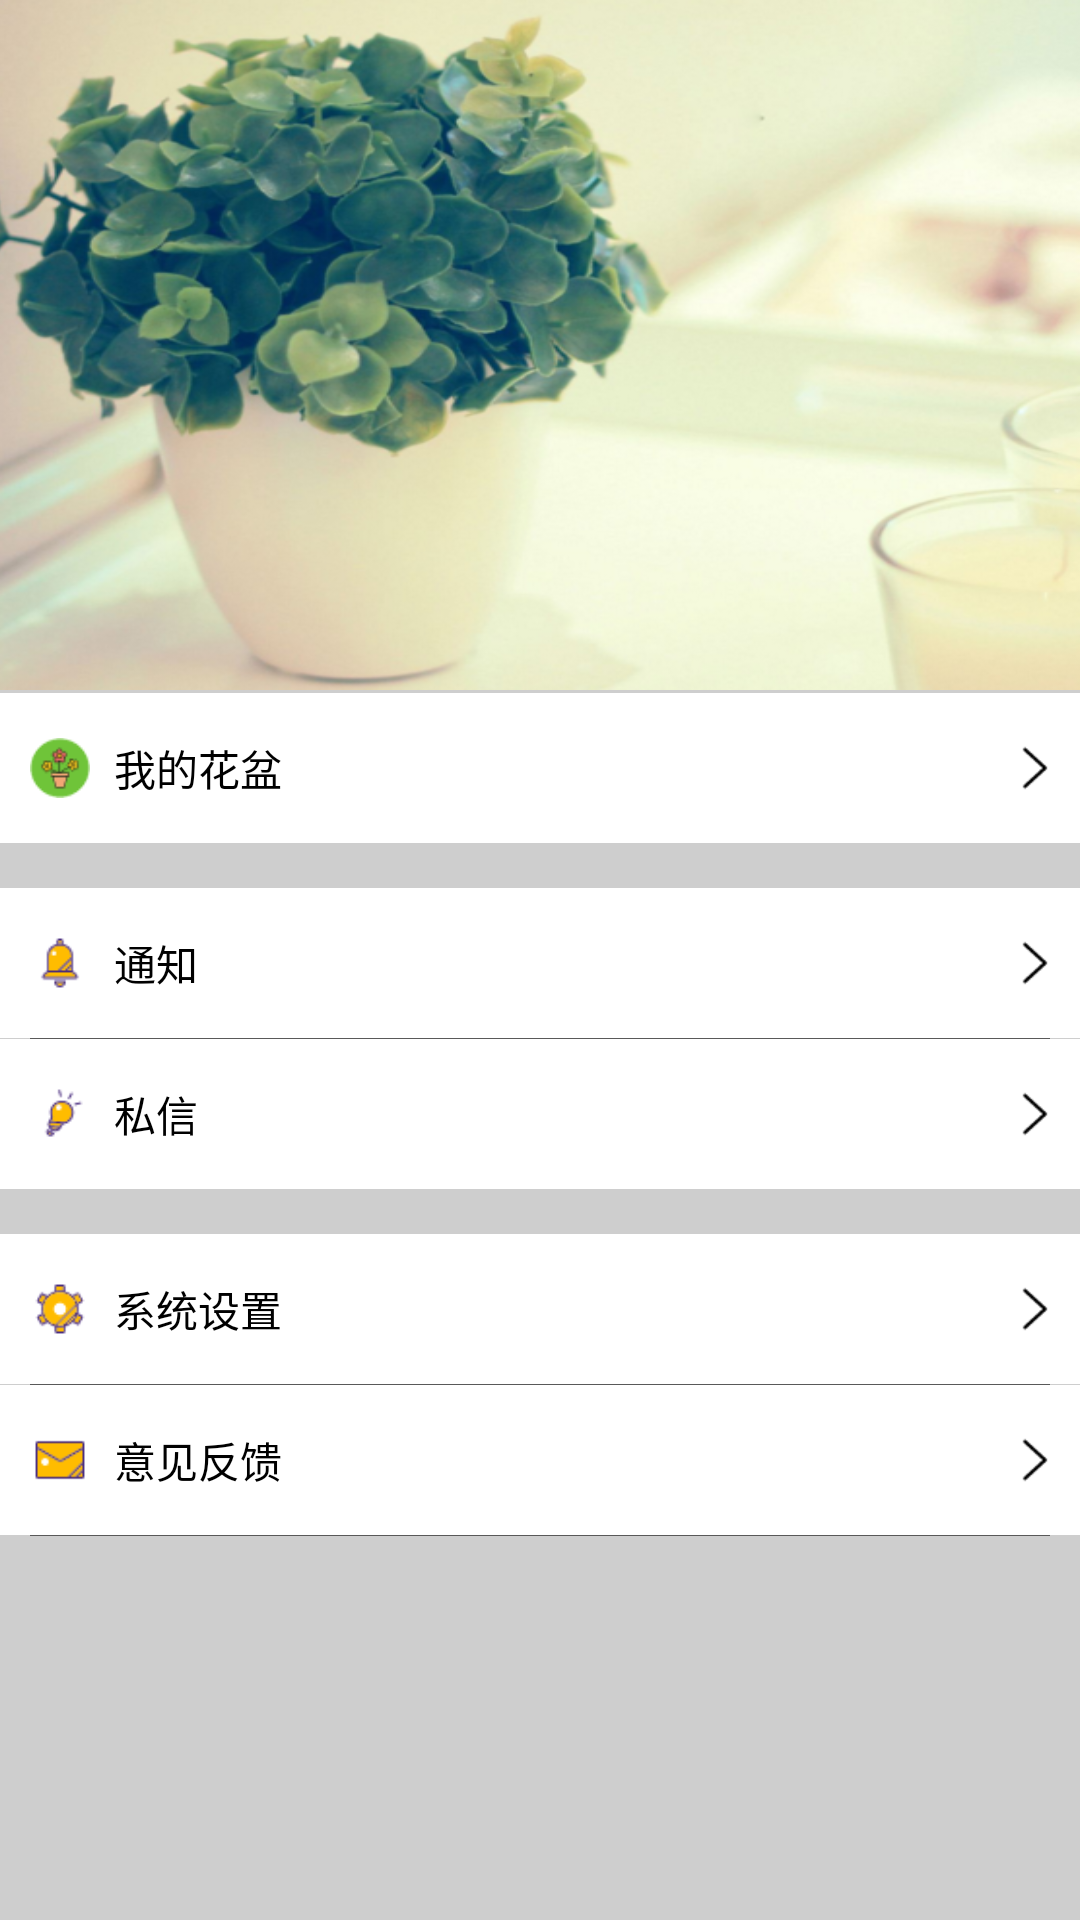

Icon click points for this 1080x1920 phone screenshot, format (x,y):
flower: (60,768)
home right arrow: (1035,768), (1035,963), (1035,1114), (1035,1309), (1035,1460)
information: (60,963)
